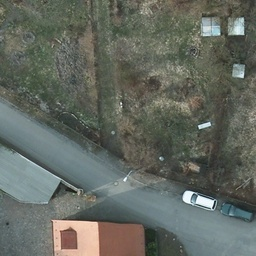car: (182, 189, 217, 211), (219, 200, 255, 221)
